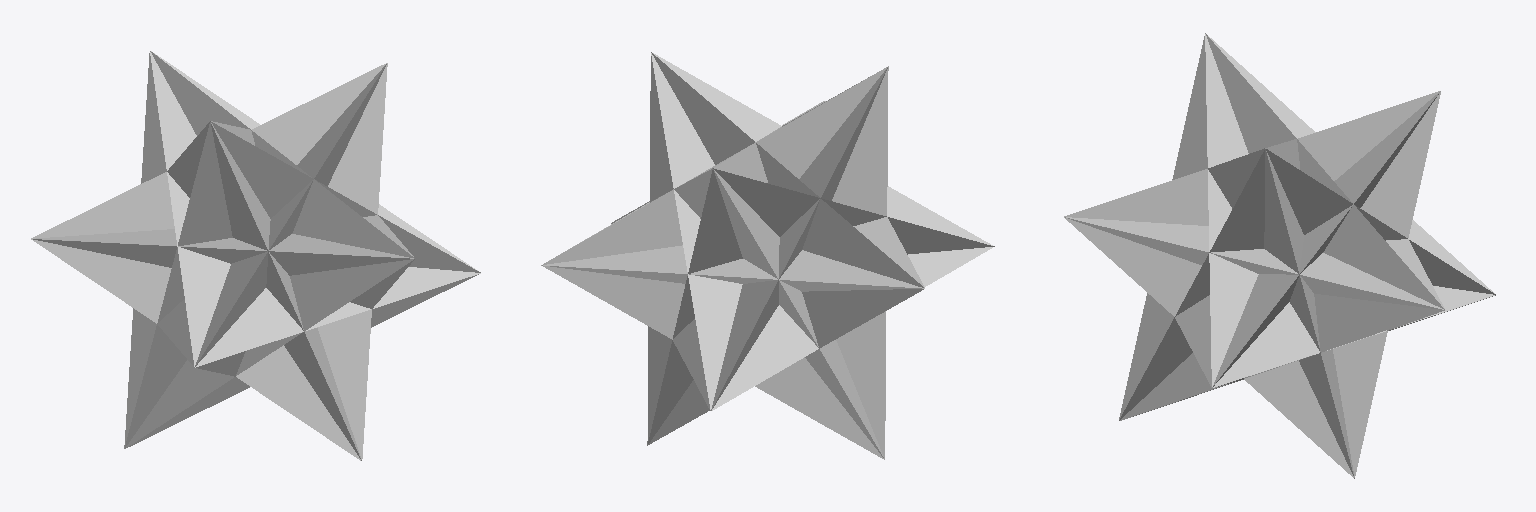
Rendered from GreatIcosahedron.obj.
The picture shows the model from 3 angles: view 1: azimuth 30°, elevation 25°; view 2: azimuth 150°, elevation 25°; view 3: azimuth 270°, elevation 25°; orthographic projection.
Visible parts, largest first — view 1: GreatIcosahedron; view 2: GreatIcosahedron; view 3: GreatIcosahedron.
Part boxes in pixels (bbox=[...]): GreatIcosahedron: bbox=[31, 51, 480, 460]; GreatIcosahedron: bbox=[541, 52, 994, 459]; GreatIcosahedron: bbox=[1064, 33, 1495, 478].
Size of the model in its own units: 0.8285 by 0.7548 by 0.8114.